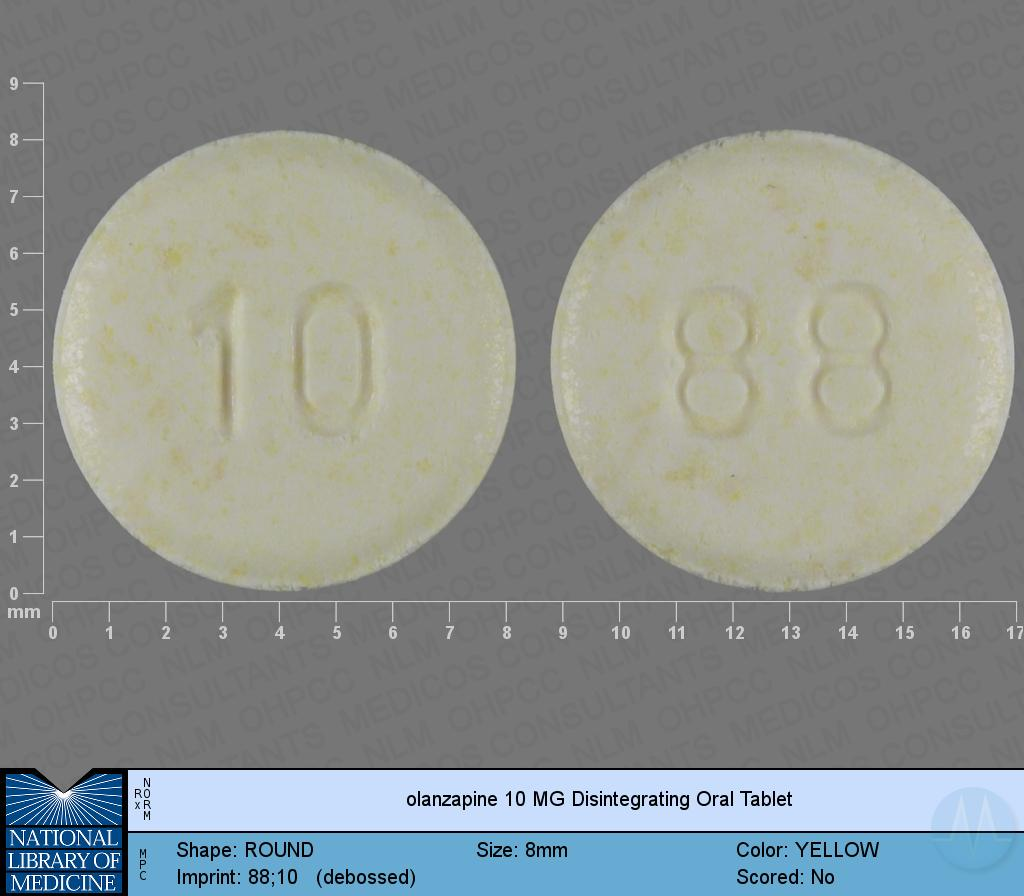Pill: (542, 120, 1024, 598), (45, 120, 525, 598)
